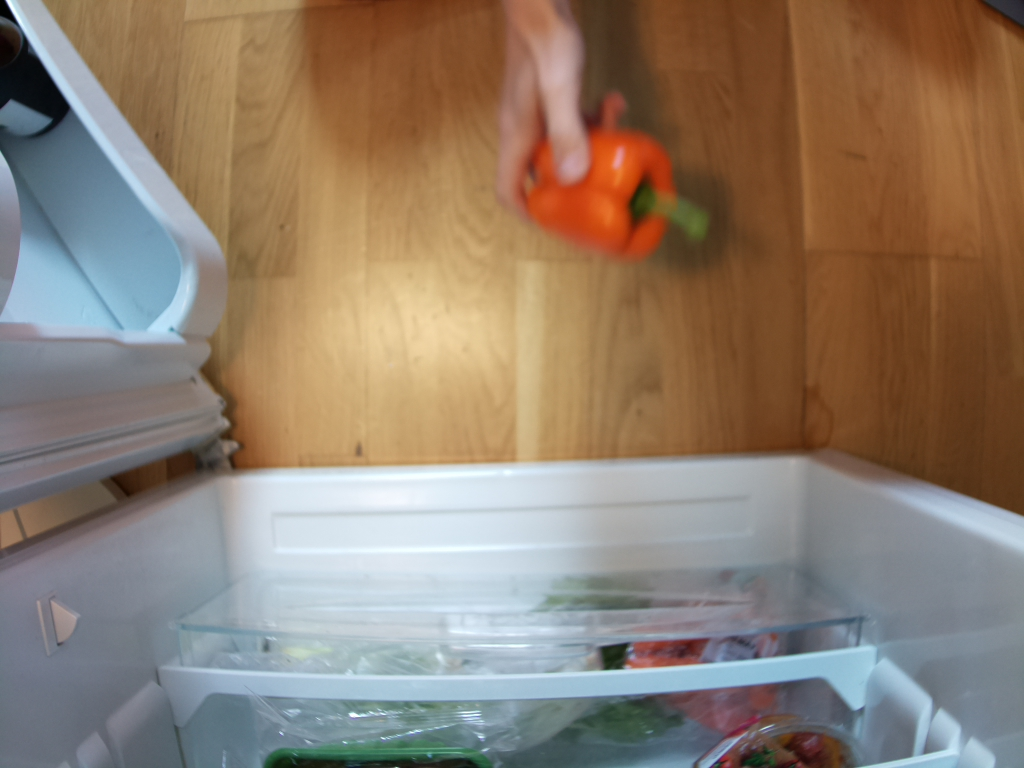pepper: (522, 123, 715, 260)
